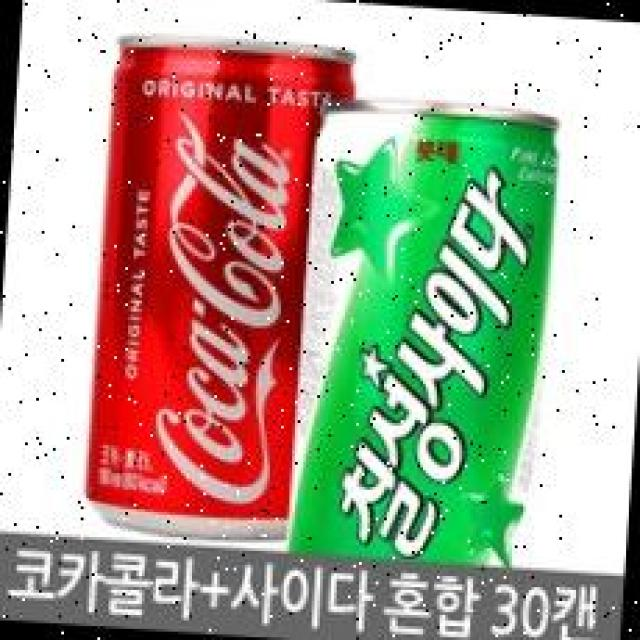coca-cola: (72, 20, 323, 542)
